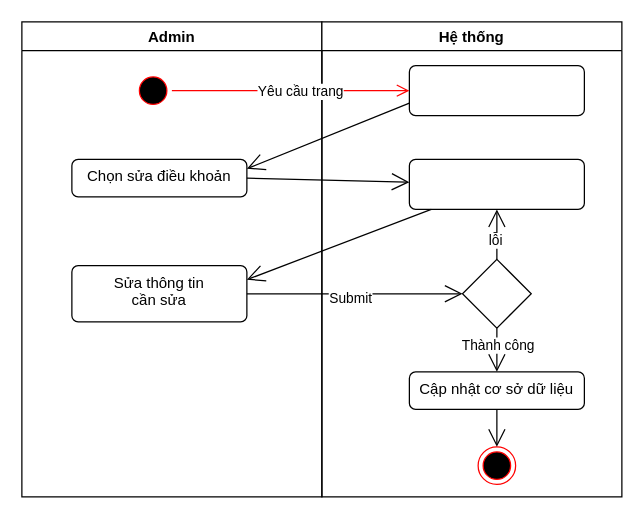
The diagram is 644 pixels wide and 519 high, and some of its shapes have lost their labels. Here are the shapes that lost their labels. From the top down, the centre of each, then its label:
At (496,90): "Hiển thị trang quản lý điều khoản".
At (496,183): "Hiển thị form theo yêu cầu".
At (496,293): "kiểm tra".
